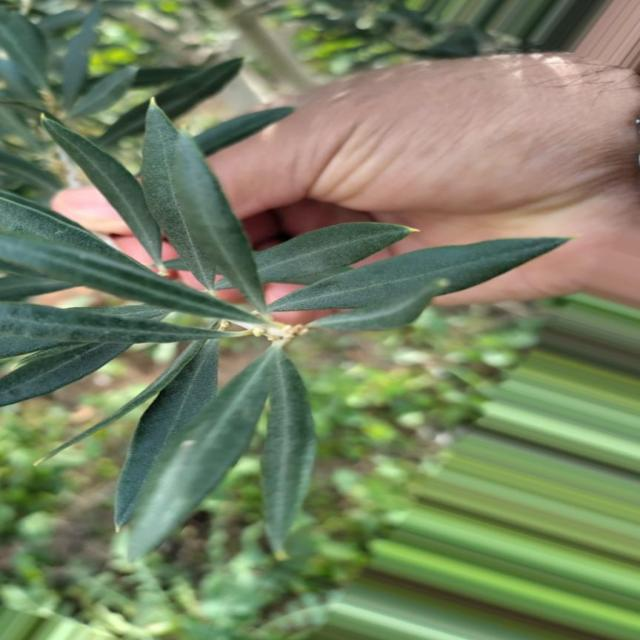Healthy: (120, 348, 276, 558), (268, 238, 567, 312), (112, 340, 219, 532), (41, 113, 162, 264), (255, 223, 415, 283)
Peacock Eye: (0, 302, 214, 343)
